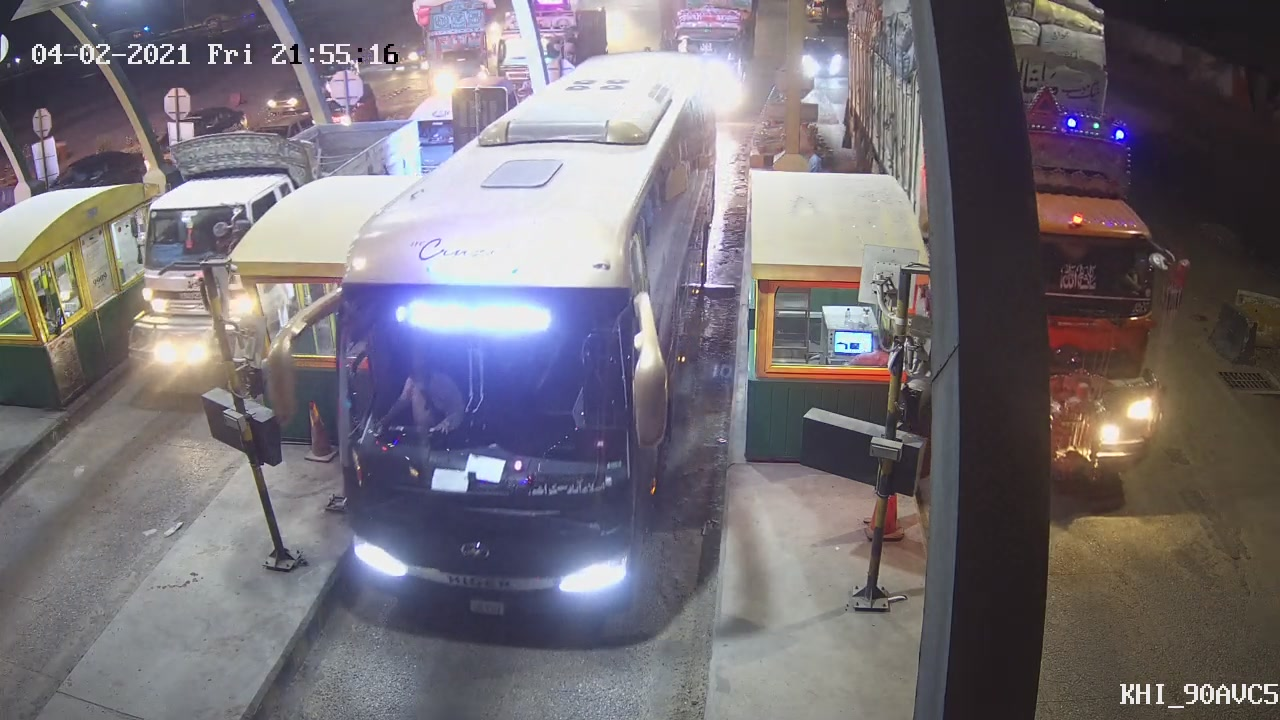F4: (265, 61, 725, 621)
